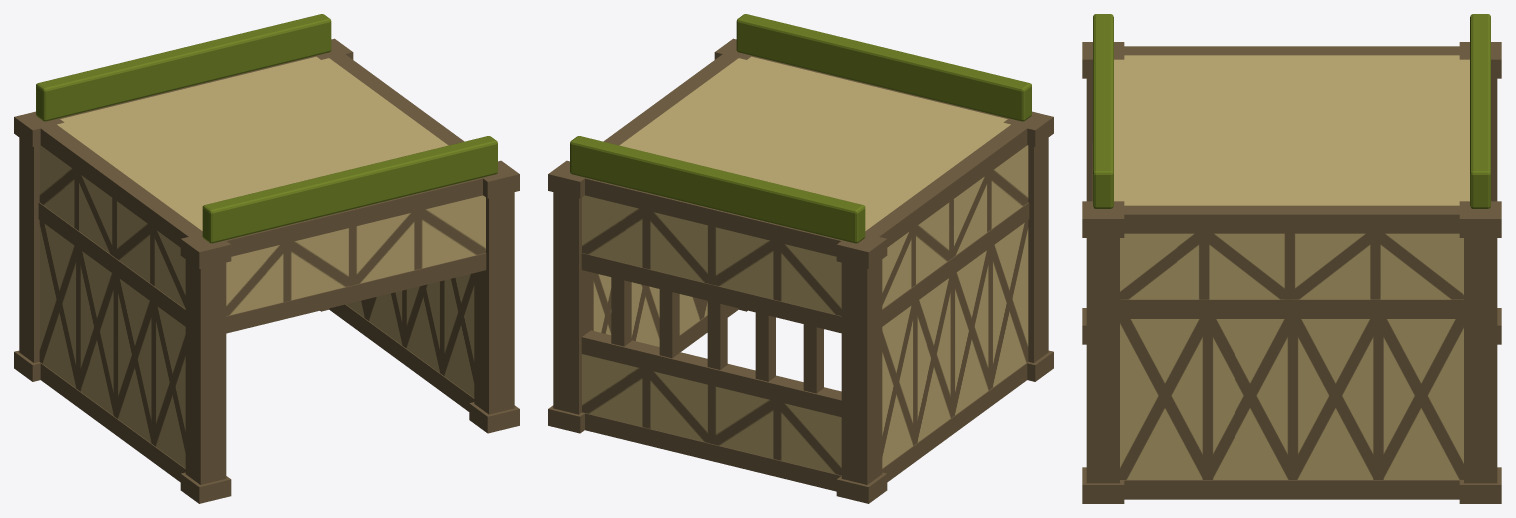
The model's file is House1.gltf.
3 views of the same model, side by side, from view 1: azimuth 30°, elevation 25°; view 2: azimuth 150°, elevation 25°; view 3: azimuth 270°, elevation 25° (orthographic). The views are drawn at different scales.
Parts seen in each view (by area): view 1: Cube; view 2: Cube; view 3: Cube.
Part boxes in pixels (<box>): Cube: <box>14,14,519,503</box>; Cube: <box>548,14,1053,503</box>; Cube: <box>1082,14,1501,503</box>.
Bounding box in the file's own units: 4 × 3.4 × 4.
1 material, 1 textured.
